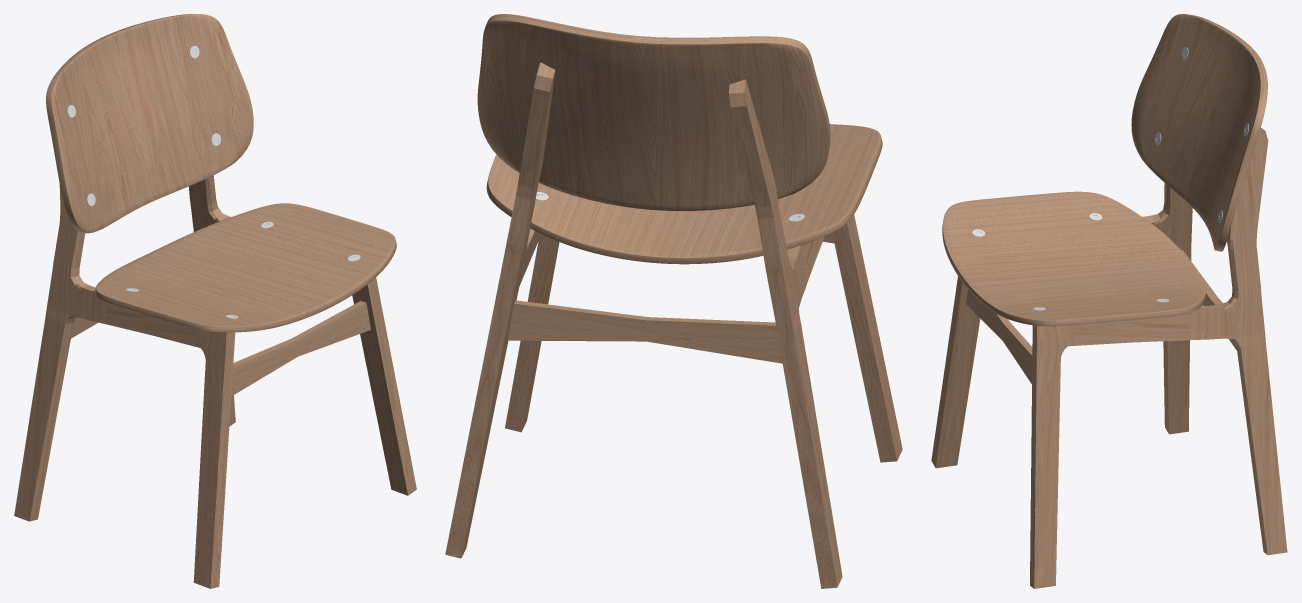
File: wooden_chair.gltf
3 views of the same model, side by side, from view 1: azimuth 30°, elevation 25°; view 2: azimuth 150°, elevation 25°; view 3: azimuth 270°, elevation 25° (orthographic). The views are drawn at different scales.
Parts seen in each view (by area): view 1: upper_seat, lower_seat, arm, front_slat; view 2: upper_seat, arm, lower_seat, back-slat; view 3: arm, lower_seat, upper_seat, front_slat.
Boxes of the visible parts, x1,y1,x2,y2 form: upper_seat: (46, 14, 253, 233); lower_seat: (95, 203, 396, 332); arm: (14, 175, 416, 588); front_slat: (231, 301, 370, 396); upper_seat: (477, 14, 830, 210); arm: (445, 62, 902, 588); lower_seat: (486, 124, 882, 264); back-slat: (508, 300, 782, 363); arm: (931, 127, 1287, 588); lower_seat: (942, 191, 1206, 326); upper_seat: (1131, 14, 1267, 251); front_slat: (966, 290, 1032, 383).
Size of the model in its own units: 0.6592 by 0.8165 by 0.6033.
Materials: 2 (1 with a texture image).
